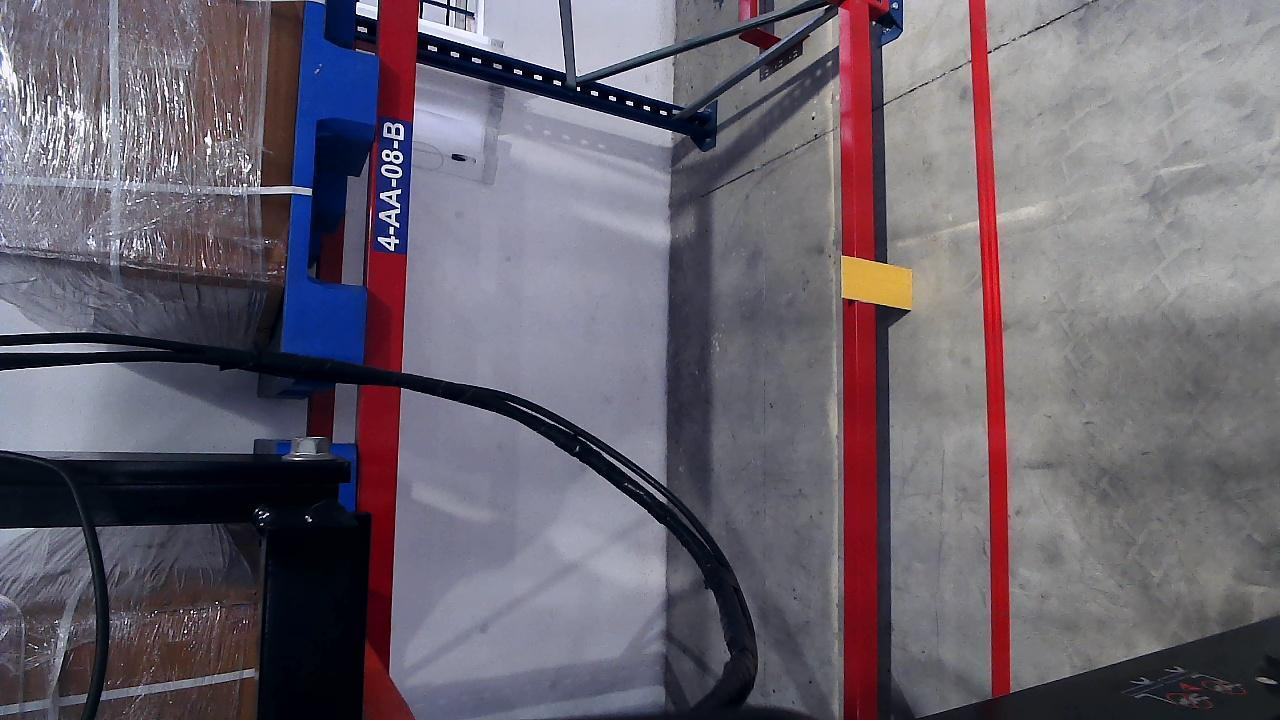red_line: (966, 0, 1011, 689)
